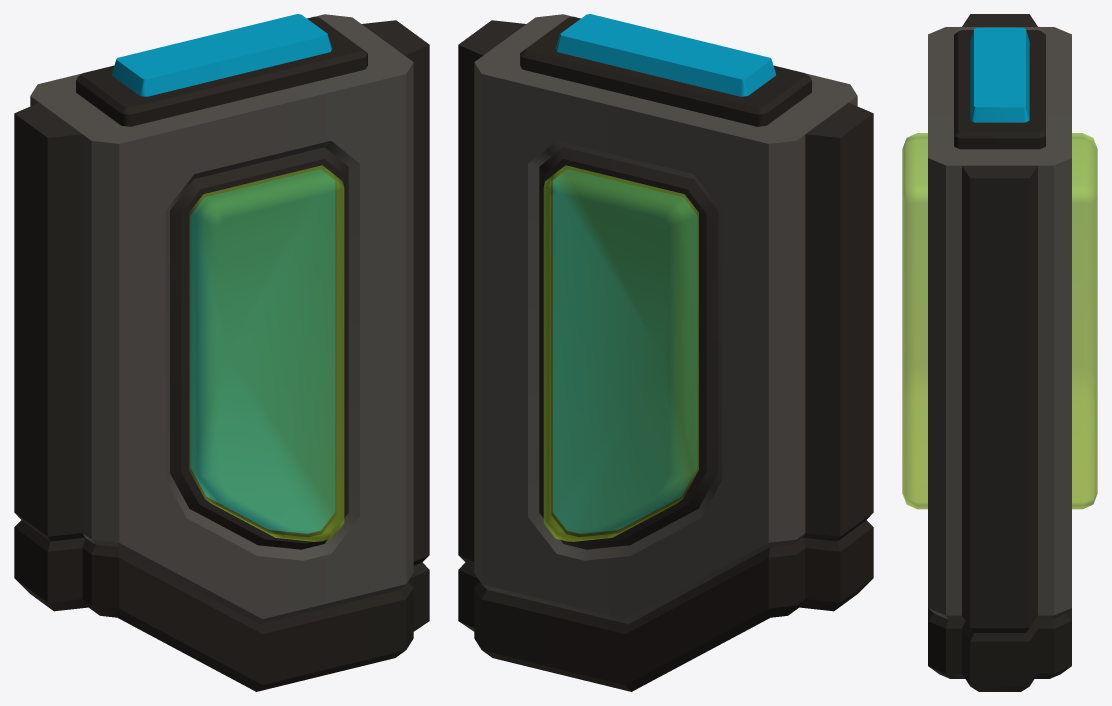
The model's file is Shotgun2_Magazine.fbx.
3 renders of one model, left to right at view 1: azimuth 30°, elevation 25°; view 2: azimuth 150°, elevation 25°; view 3: azimuth 270°, elevation 25°, orthographic. The views are drawn at different scales.
Visible parts, largest first — view 1: Shotgun2_Magazine; view 2: Shotgun2_Magazine; view 3: Shotgun2_Magazine.
Boxes of the visible parts, x1,y1,x2,y2 form: Shotgun2_Magazine: [14, 14, 429, 691]; Shotgun2_Magazine: [458, 14, 873, 691]; Shotgun2_Magazine: [902, 14, 1097, 691].
Bounding box in the file's own units: 8 × 12.41 × 4.02.
